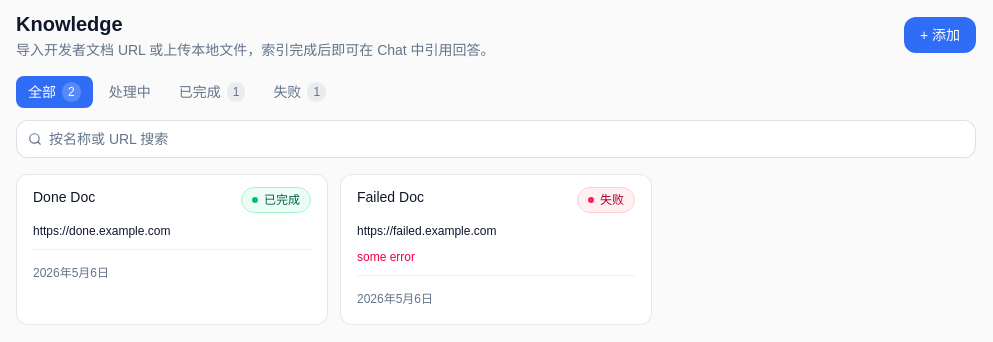
it: KnowledgePage › filters by status tab
expect the text "Done Doc" is shown: met, box [33,187,95,207]
Click the button "失败 1". click: x=300, y=92
box: [261,76,338,108]
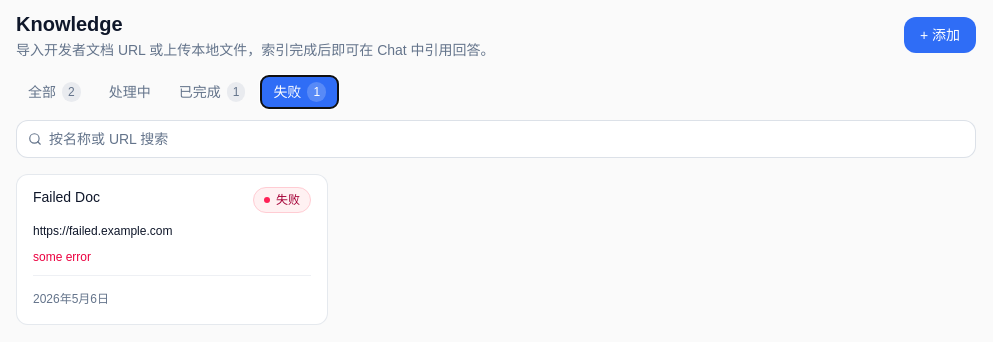
expect the text "Failed Doc" is shown: met, box [33,187,100,207]
expect the text "Done Doc" is gone: met
